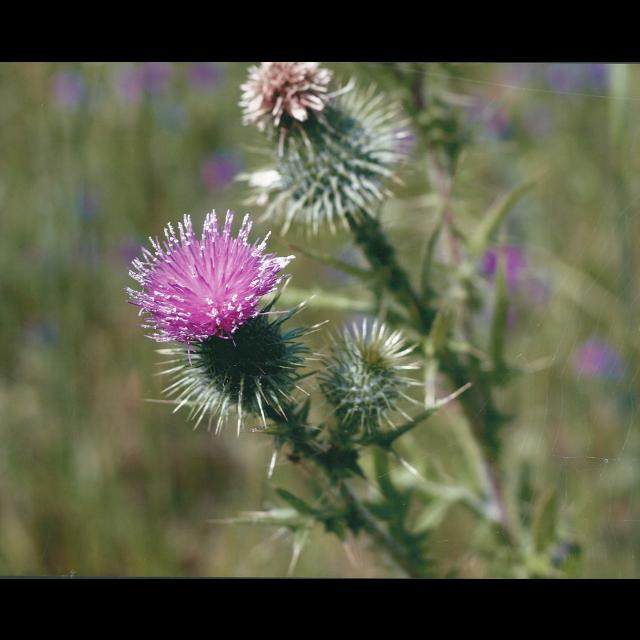Flower: (233, 72, 419, 240), (150, 275, 328, 437), (120, 204, 296, 366), (304, 316, 438, 434), (236, 61, 336, 132)
